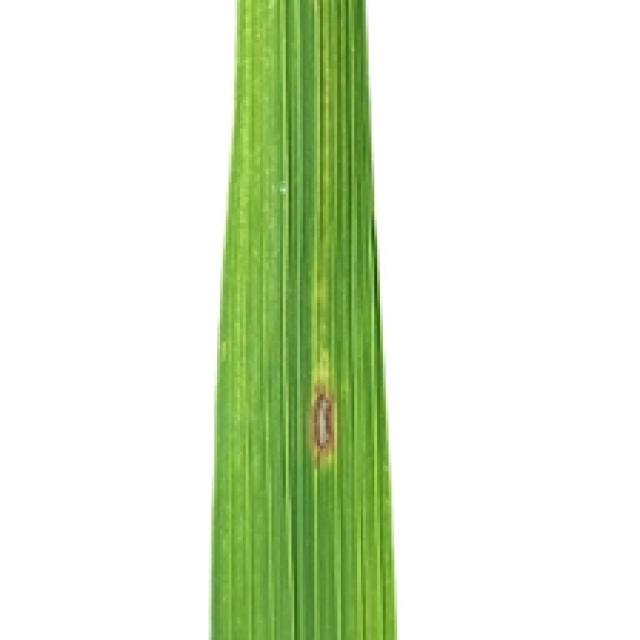Rice___Rice_Blast: (212, 0, 401, 637)
